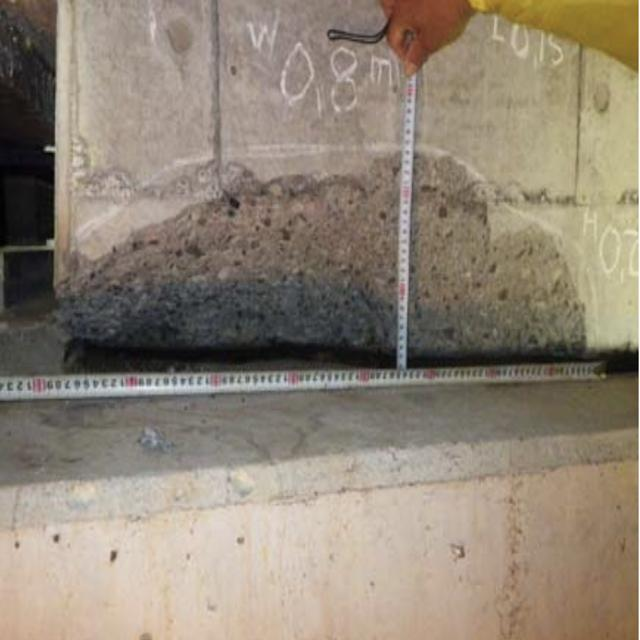spalling: (54, 147, 580, 359)
